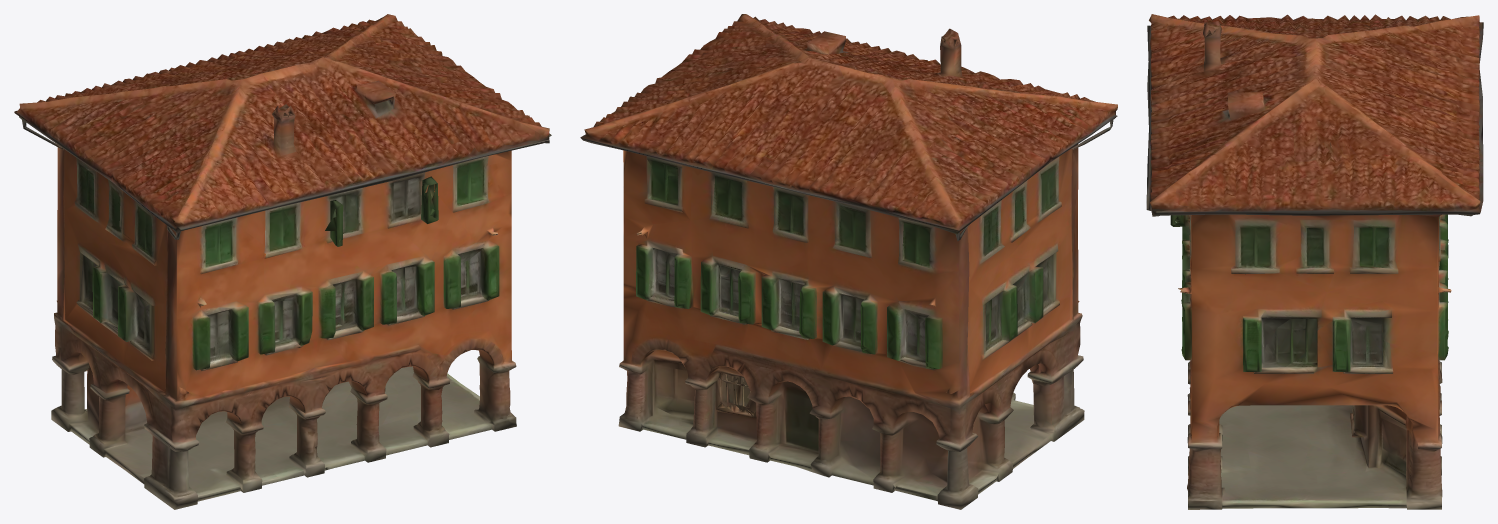
Rendered from bologna_house_a.glb.
3 views of the same model, side by side, from view 1: azimuth 30°, elevation 25°; view 2: azimuth 150°, elevation 25°; view 3: azimuth 270°, elevation 25° (orthographic). The views are drawn at different scales.
Parts seen in each view (by area): view 1: tripo_node_d4c6601b-330e-4e3a-afcb-72c2c6c48b40; view 2: tripo_node_d4c6601b-330e-4e3a-afcb-72c2c6c48b40; view 3: tripo_node_d4c6601b-330e-4e3a-afcb-72c2c6c48b40.
Boxes of the visible parts, box(x1,y1,x2,y2) form: tripo_node_d4c6601b-330e-4e3a-afcb-72c2c6c48b40: box(14, 14, 551, 509); tripo_node_d4c6601b-330e-4e3a-afcb-72c2c6c48b40: box(580, 14, 1117, 509); tripo_node_d4c6601b-330e-4e3a-afcb-72c2c6c48b40: box(1146, 14, 1483, 509).
Size of the model in its own units: 14.08 by 13 by 10.5.
1 material, 1 textured.
